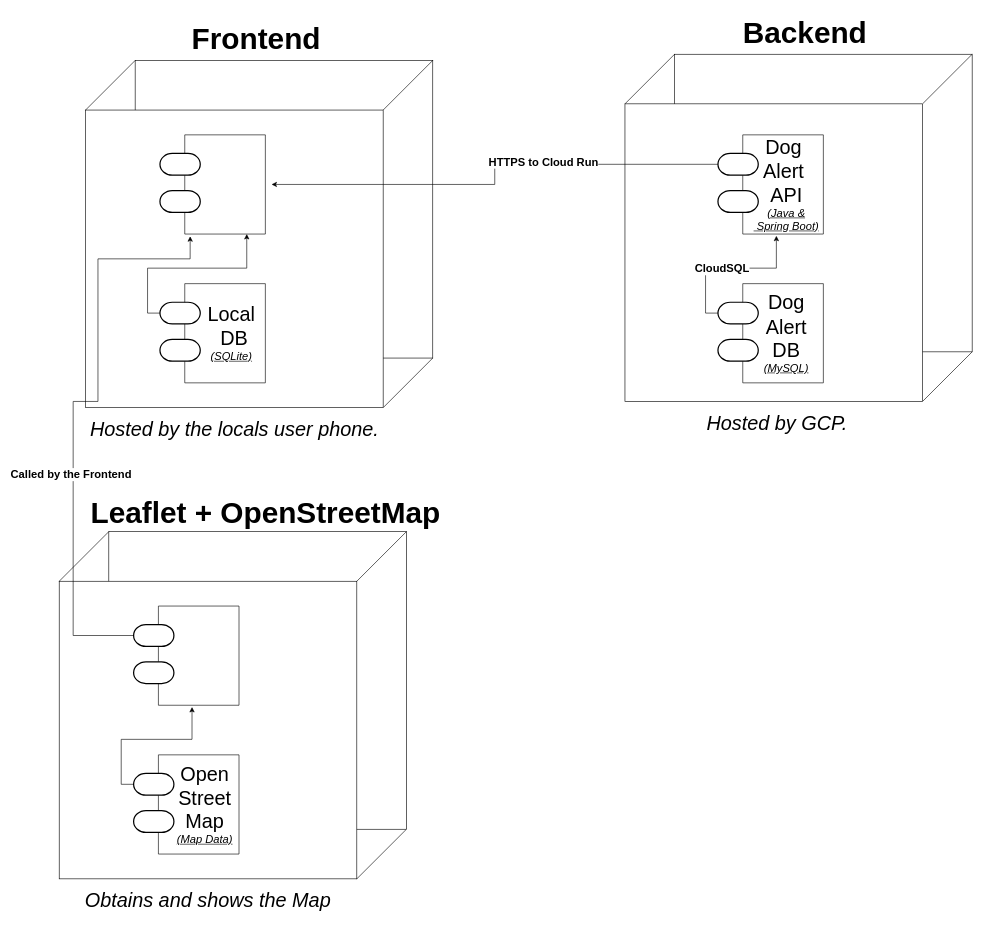
The diagram is 984 pixels wide and 926 high, and some of its shapes have lost their labels. Each missing label, with the box of its shape:
Dog Alert App (React Native): (184, 134, 265, 234)
Leaflet (JavaScript Library): (158, 605, 239, 705)
